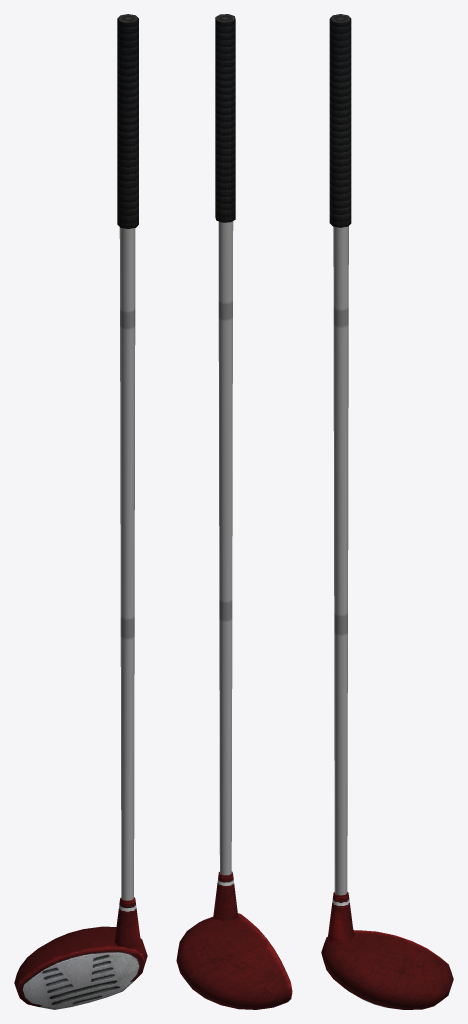
Rendered from WoodsOTL.FBX.
The picture shows the model from 3 angles, left to right: view 1: azimuth 90°, elevation 25°; view 2: azimuth 210°, elevation 25°; view 3: azimuth 270°, elevation 25°; orthographic projection. The views are drawn at different scales.
Parts seen in each view (by area): view 1: Woods; view 2: Woods; view 3: Woods.
Boxes of the visible parts, x1,y1,x2,y2 form: Woods: (14,14,147,1009); Woods: (176,14,292,1009); Woods: (321,14,453,1009).
Size of the model in its own units: 0.1157 by 1.36 by 0.1664.
Materials: 1 (1 with a texture image).
